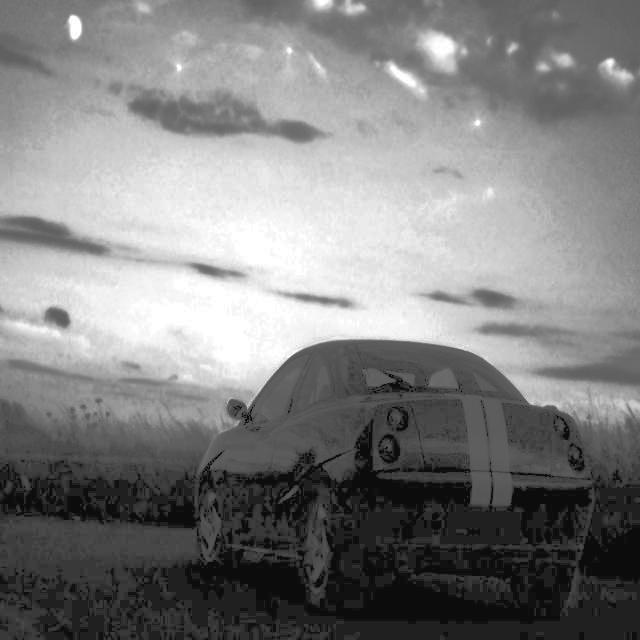Car: (187, 341, 598, 615)
